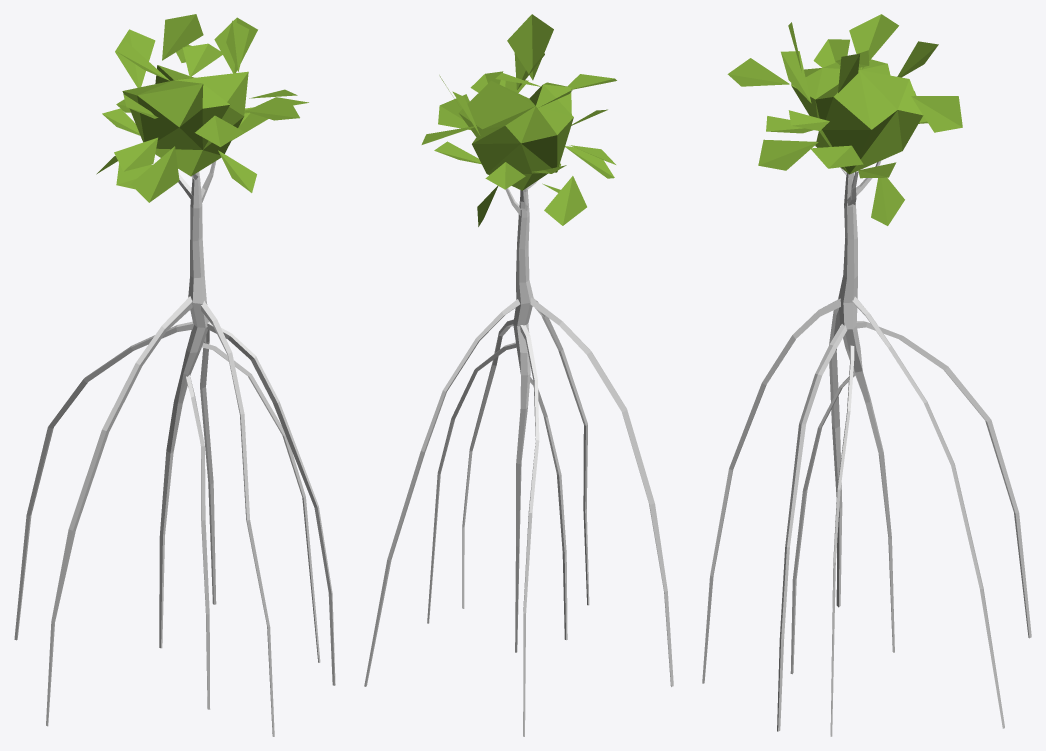
The model's file is tree-mangrove-sapling-a.gltf.
3 renders of one model, left to right at view 1: azimuth 30°, elevation 25°; view 2: azimuth 150°, elevation 25°; view 3: azimuth 270°, elevation 25°, orthographic. The views are drawn at different scales.
Visible parts, largest first — view 1: tree-mangrove-sapling-a; view 2: tree-mangrove-sapling-a; view 3: tree-mangrove-sapling-a.
Boxes of the visible parts, left/top/right/bottom form: tree-mangrove-sapling-a: left=14, top=14, right=335, bottom=736; tree-mangrove-sapling-a: left=364, top=14, right=673, bottom=736; tree-mangrove-sapling-a: left=702, top=14, right=1031, bottom=736.
Size of the model in its own units: 0.00884 by 0.0209 by 0.00934.
